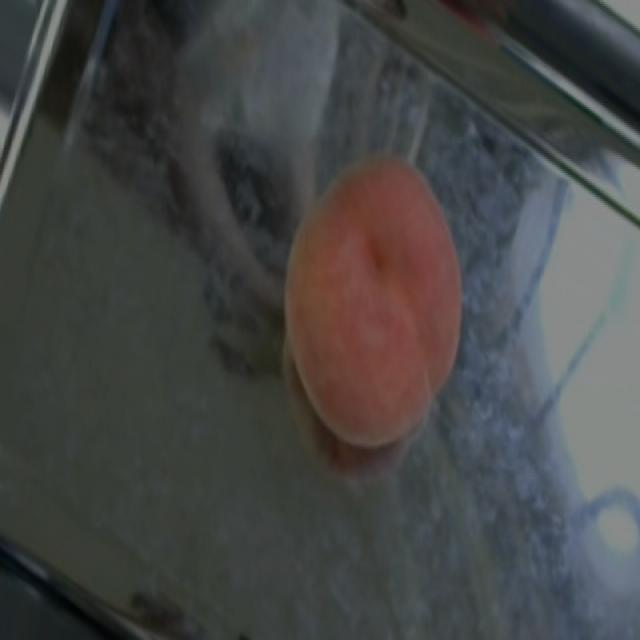Fruit: (233, 131, 491, 477)
